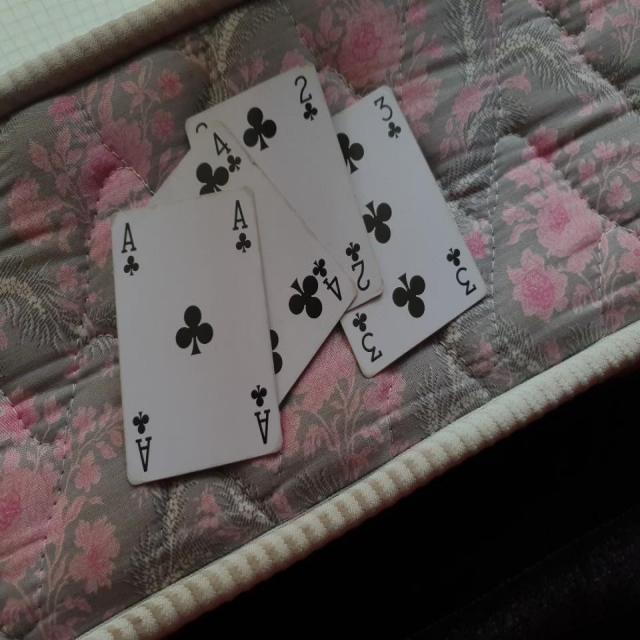2 Trefoils: (184, 61, 386, 310)
3 Trefoils: (330, 84, 490, 378)
4 Trefoils: (144, 118, 358, 409)
A Trefoils: (108, 186, 285, 485)
